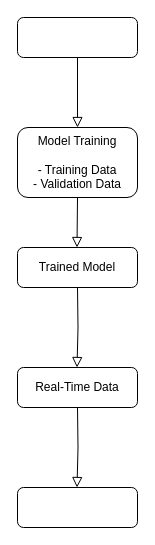
Image size: 155x545. Some labels were removed from this diagram. The centre of each missing label's shape, as x and y in pixels:
Historical Data: the point at 77,37
Prediction: the point at 77,507
